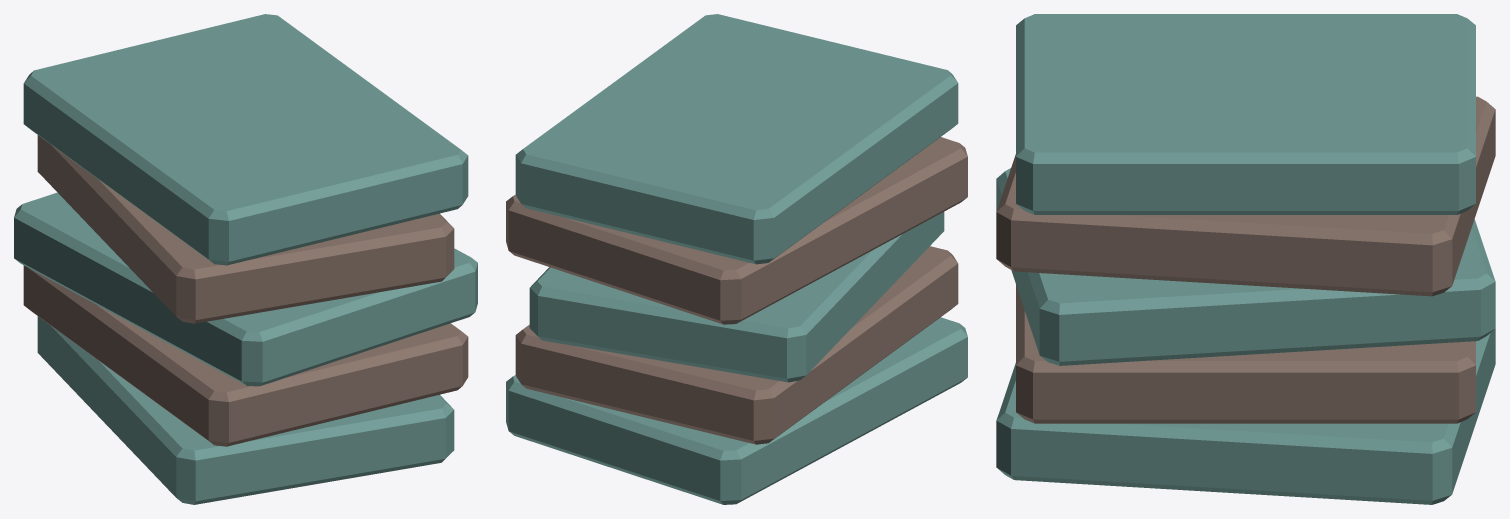
File: book-stack.glb
3 renders of one model, left to right at view 1: azimuth 30°, elevation 25°; view 2: azimuth 150°, elevation 25°; view 3: azimuth 270°, elevation 25°, orthographic. The views are drawn at different scales.
Visible parts, largest first — view 1: book-stack__body; view 2: book-stack__body; view 3: book-stack__body.
Boxes of the visible parts, left/top/right/bottom form: book-stack__body: left=14, top=14, right=477, bottom=504; book-stack__body: left=506, top=14, right=967, bottom=504; book-stack__body: left=996, top=14, right=1495, bottom=504.
Size of the model in its own units: 0.523 by 0.49 by 0.6506.
